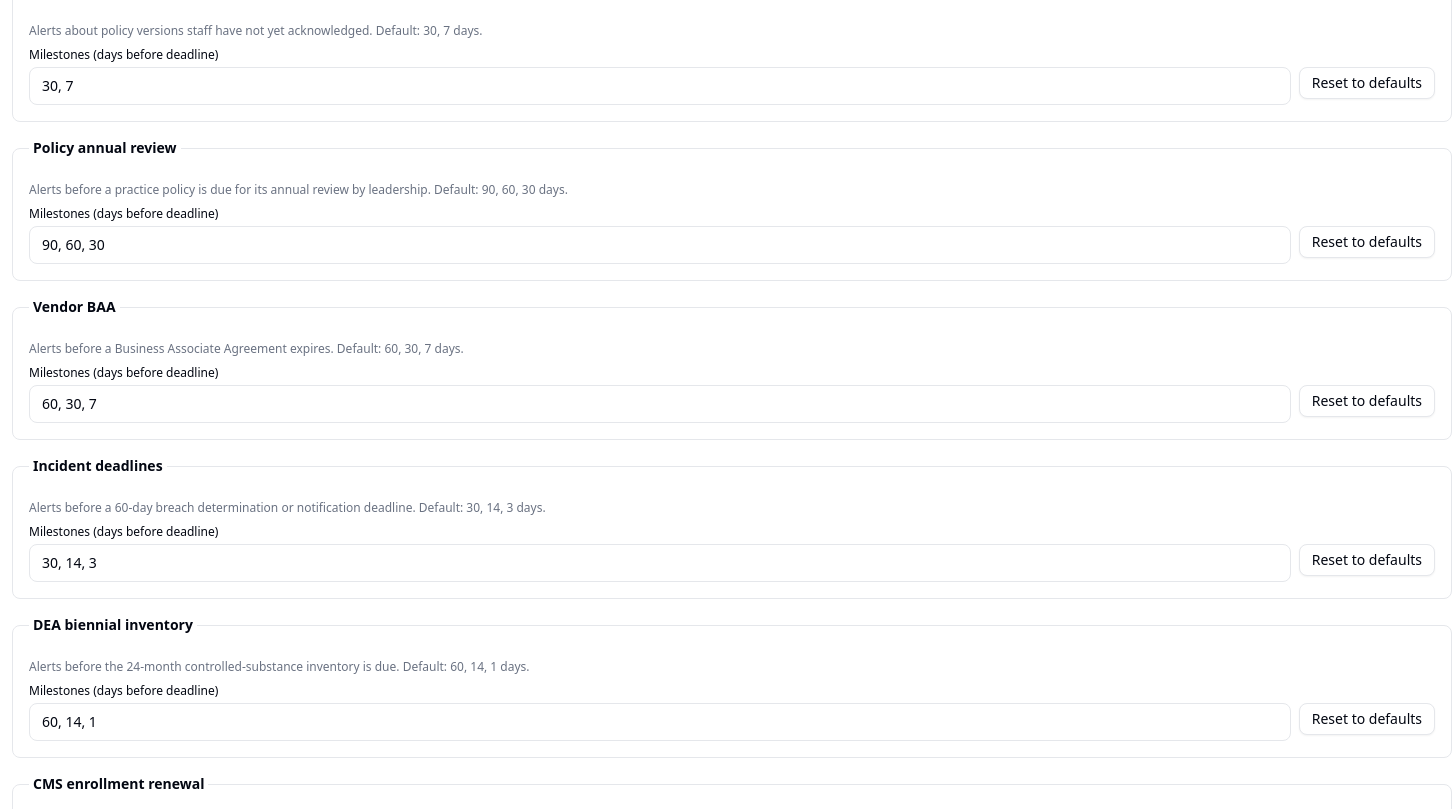
Test: <RemindersForm> › blocks submit when a value is out of [1, 1825]
(page scrolled)
Type "0, 30" into the field labelled "Milestones (days before deadline)" below "Vendor BAA" at (660, 404), box [29,385,1291,423]
(page scrolled)
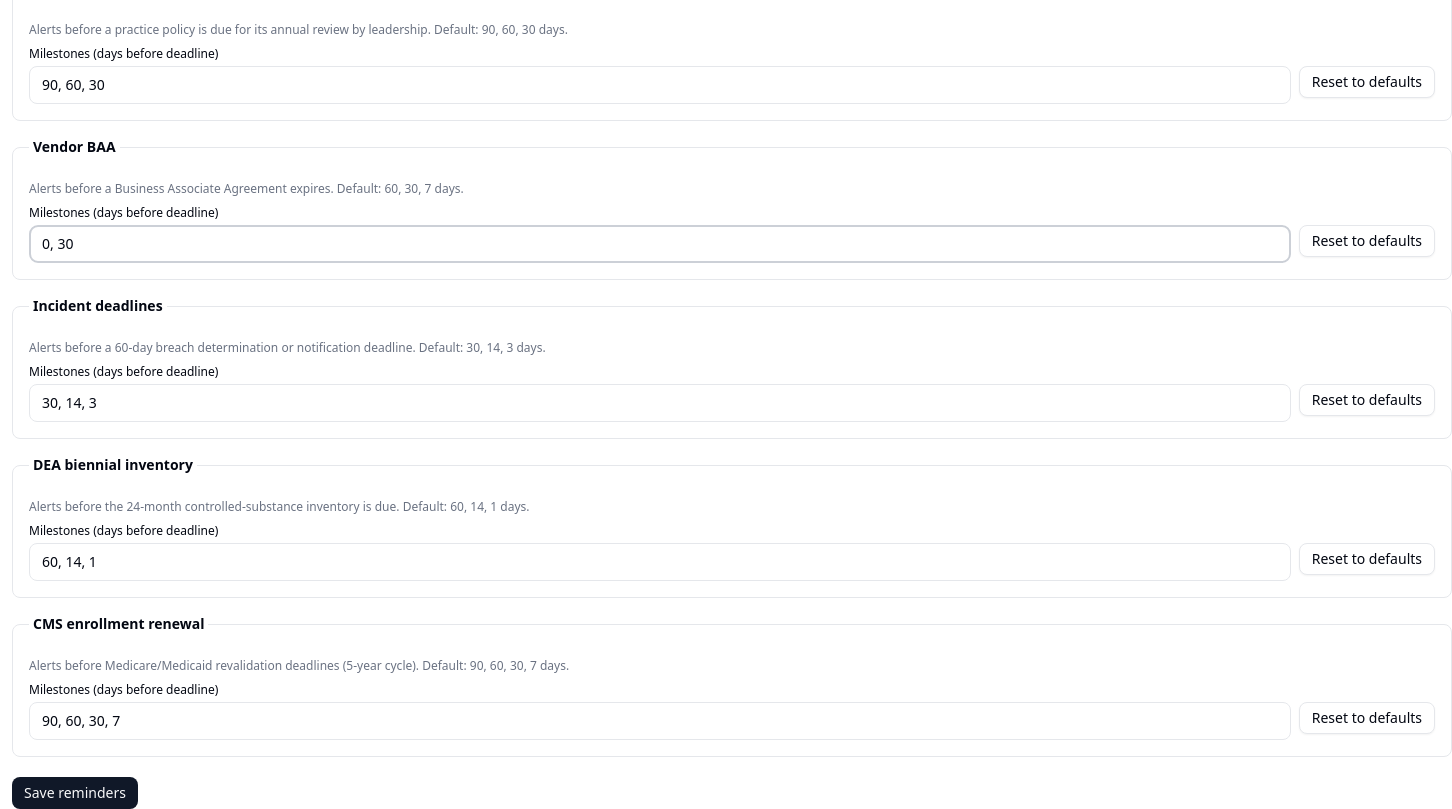
Click the button "Save reminders" at (75, 793), box [12,777,138,808]
(page scrolled)
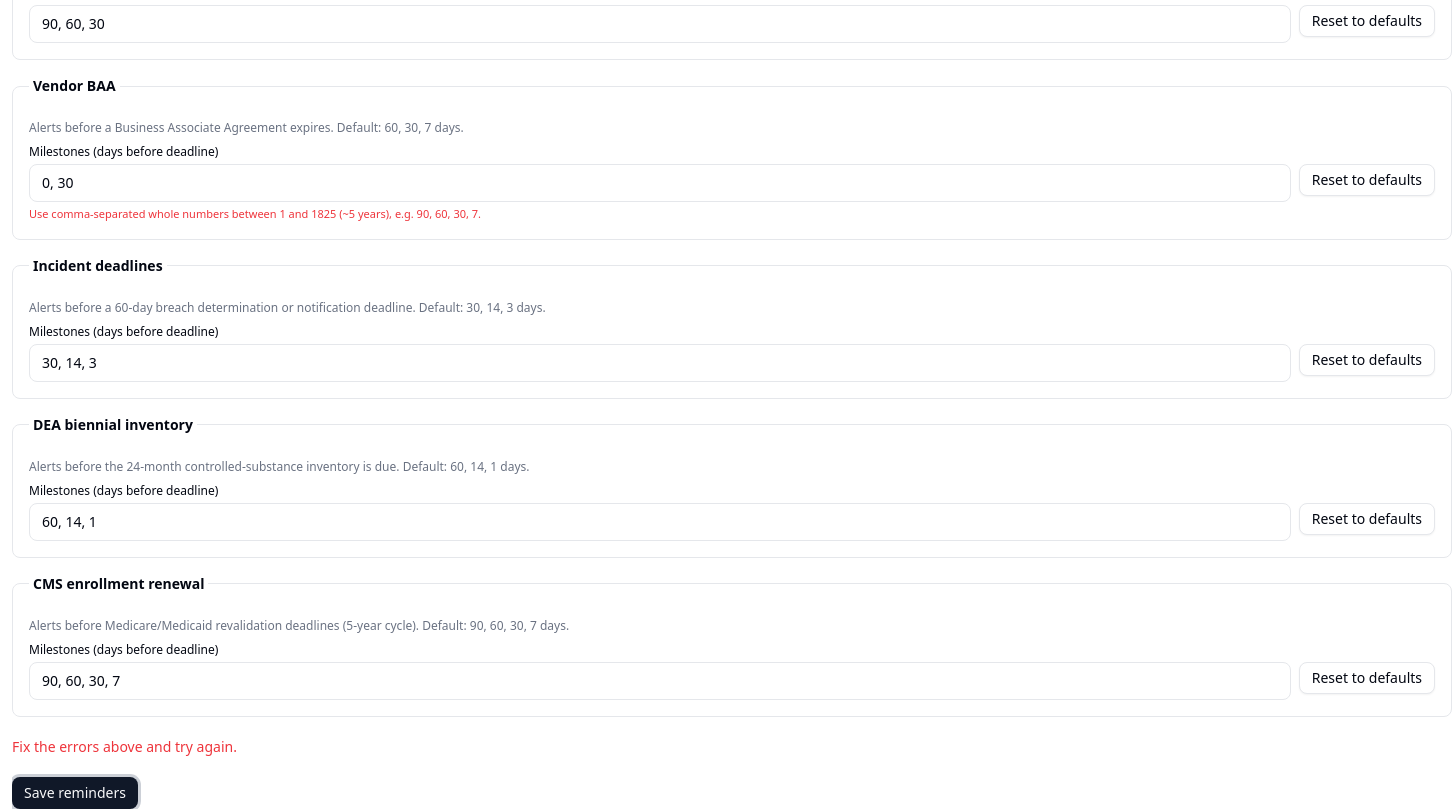
Expected: the message "Fix the errors above and try again." is shown, [12,736,237,756]
